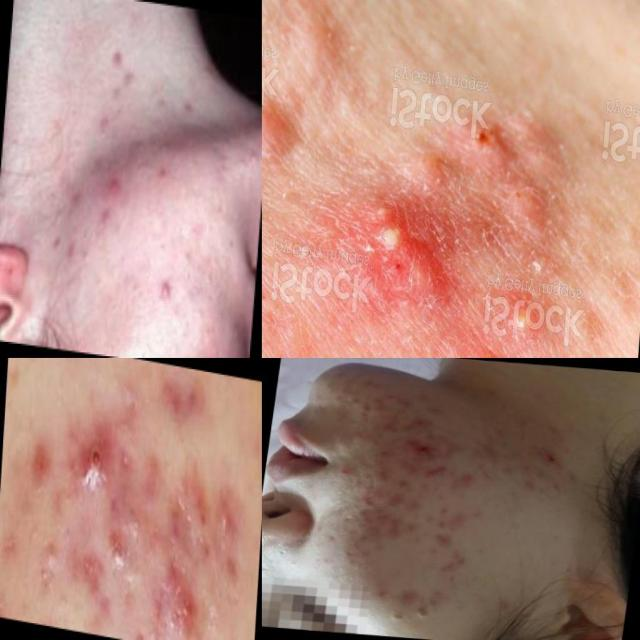8: (163, 580, 210, 640), (346, 504, 412, 544), (100, 149, 133, 213), (71, 235, 111, 280), (28, 436, 50, 503), (153, 264, 179, 312), (407, 438, 441, 465), (449, 469, 479, 494), (382, 394, 416, 410), (357, 395, 385, 413), (370, 466, 394, 484), (348, 429, 368, 442), (334, 466, 352, 478), (394, 478, 410, 490)
9: (486, 273, 558, 351), (77, 434, 111, 508), (461, 334, 521, 358)
blackheads: (350, 176, 458, 319), (452, 88, 503, 174), (440, 549, 474, 575), (405, 415, 442, 431), (428, 460, 458, 474), (432, 532, 458, 544)
pustules: (504, 106, 570, 237)
